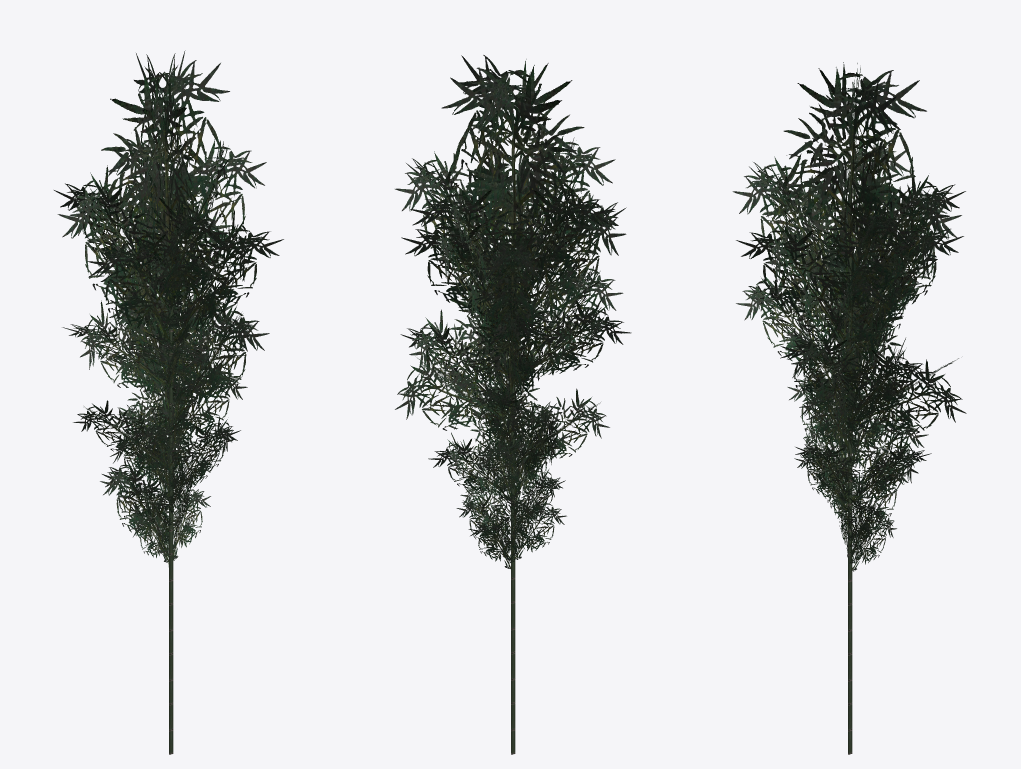
File: bamboo_tree_med1.fbx
3 views of the same model, side by side, from view 1: azimuth 30°, elevation 25°; view 2: azimuth 150°, elevation 25°; view 3: azimuth 270°, elevation 25° (orthographic).
Parts seen in each view (by area): view 1: mesh_63, mesh_35, mesh_34, mesh_65, mesh_42, mesh_47, mesh_64, mesh_19, mesh_44, mesh_43, mesh_28, mesh_38 (+29 smaller); view 2: mesh_64, mesh_63, mesh_65, mesh_44, mesh_23, mesh_39, mesh_35, mesh_45, mesh_28, mesh_41, mesh_48, mesh_37 (+37 smaller); view 3: mesh_65, mesh_64, mesh_33, mesh_42, mesh_48, mesh_23, mesh_40, mesh_32, mesh_62, mesh_34, mesh_26, mesh_45 (+33 smaller).
Part boxes in pixels (x1=…): mesh_63: x1=101, y1=60, x2=229, y2=303; mesh_35: x1=88, y1=234, x2=191, y2=345; mesh_34: x1=170, y1=225, x2=283, y2=345; mesh_65: x1=134, y1=53, x2=196, y2=293; mesh_42: x1=142, y1=197, x2=231, y2=308; mesh_47: x1=158, y1=139, x2=266, y2=303; mesh_64: x1=140, y1=50, x2=189, y2=295; mesh_19: x1=173, y1=306, x2=269, y2=424; mesh_44: x1=69, y1=165, x2=169, y2=309; mesh_43: x1=54, y1=180, x2=169, y2=308; mesh_28: x1=80, y1=300, x2=168, y2=388; mesh_38: x1=57, y1=184, x2=168, y2=340; mesh_64: x1=441, y1=65, x2=585, y2=280; mesh_63: x1=459, y1=55, x2=572, y2=269; mesh_65: x1=471, y1=59, x2=555, y2=276; mesh_44: x1=501, y1=190, x2=614, y2=301; mesh_23: x1=395, y1=349, x2=509, y2=430; mesh_39: x1=401, y1=221, x2=516, y2=339; mesh_35: x1=520, y1=191, x2=626, y2=334; mesh_45: x1=410, y1=188, x2=523, y2=299; mesh_28: x1=514, y1=300, x2=631, y2=382; mesh_41: x1=505, y1=136, x2=615, y2=295; mesh_48: x1=395, y1=150, x2=507, y2=294; mesh_37: x1=477, y1=226, x2=546, y2=337; mesh_65: x1=781, y1=67, x2=926, y2=304; mesh_64: x1=806, y1=62, x2=900, y2=304; mesh_33: x1=736, y1=225, x2=849, y2=346; mesh_42: x1=732, y1=153, x2=847, y2=307; mesh_48: x1=823, y1=198, x2=918, y2=310; mesh_23: x1=852, y1=359, x2=966, y2=433; mesh_40: x1=850, y1=223, x2=963, y2=344; mesh_32: x1=814, y1=270, x2=890, y2=383; mesh_62: x1=843, y1=350, x2=934, y2=423; mesh_34: x1=767, y1=210, x2=847, y2=346; mesh_26: x1=736, y1=272, x2=844, y2=383; mesh_45: x1=856, y1=168, x2=949, y2=306.
Bounding box in the file's own units: 644 × 1561 × 645.
Materials: 1 (1 with a texture image).
